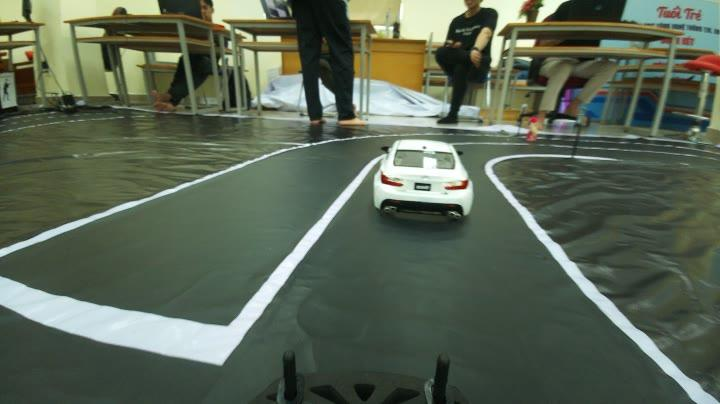car: (369, 126, 486, 224)
